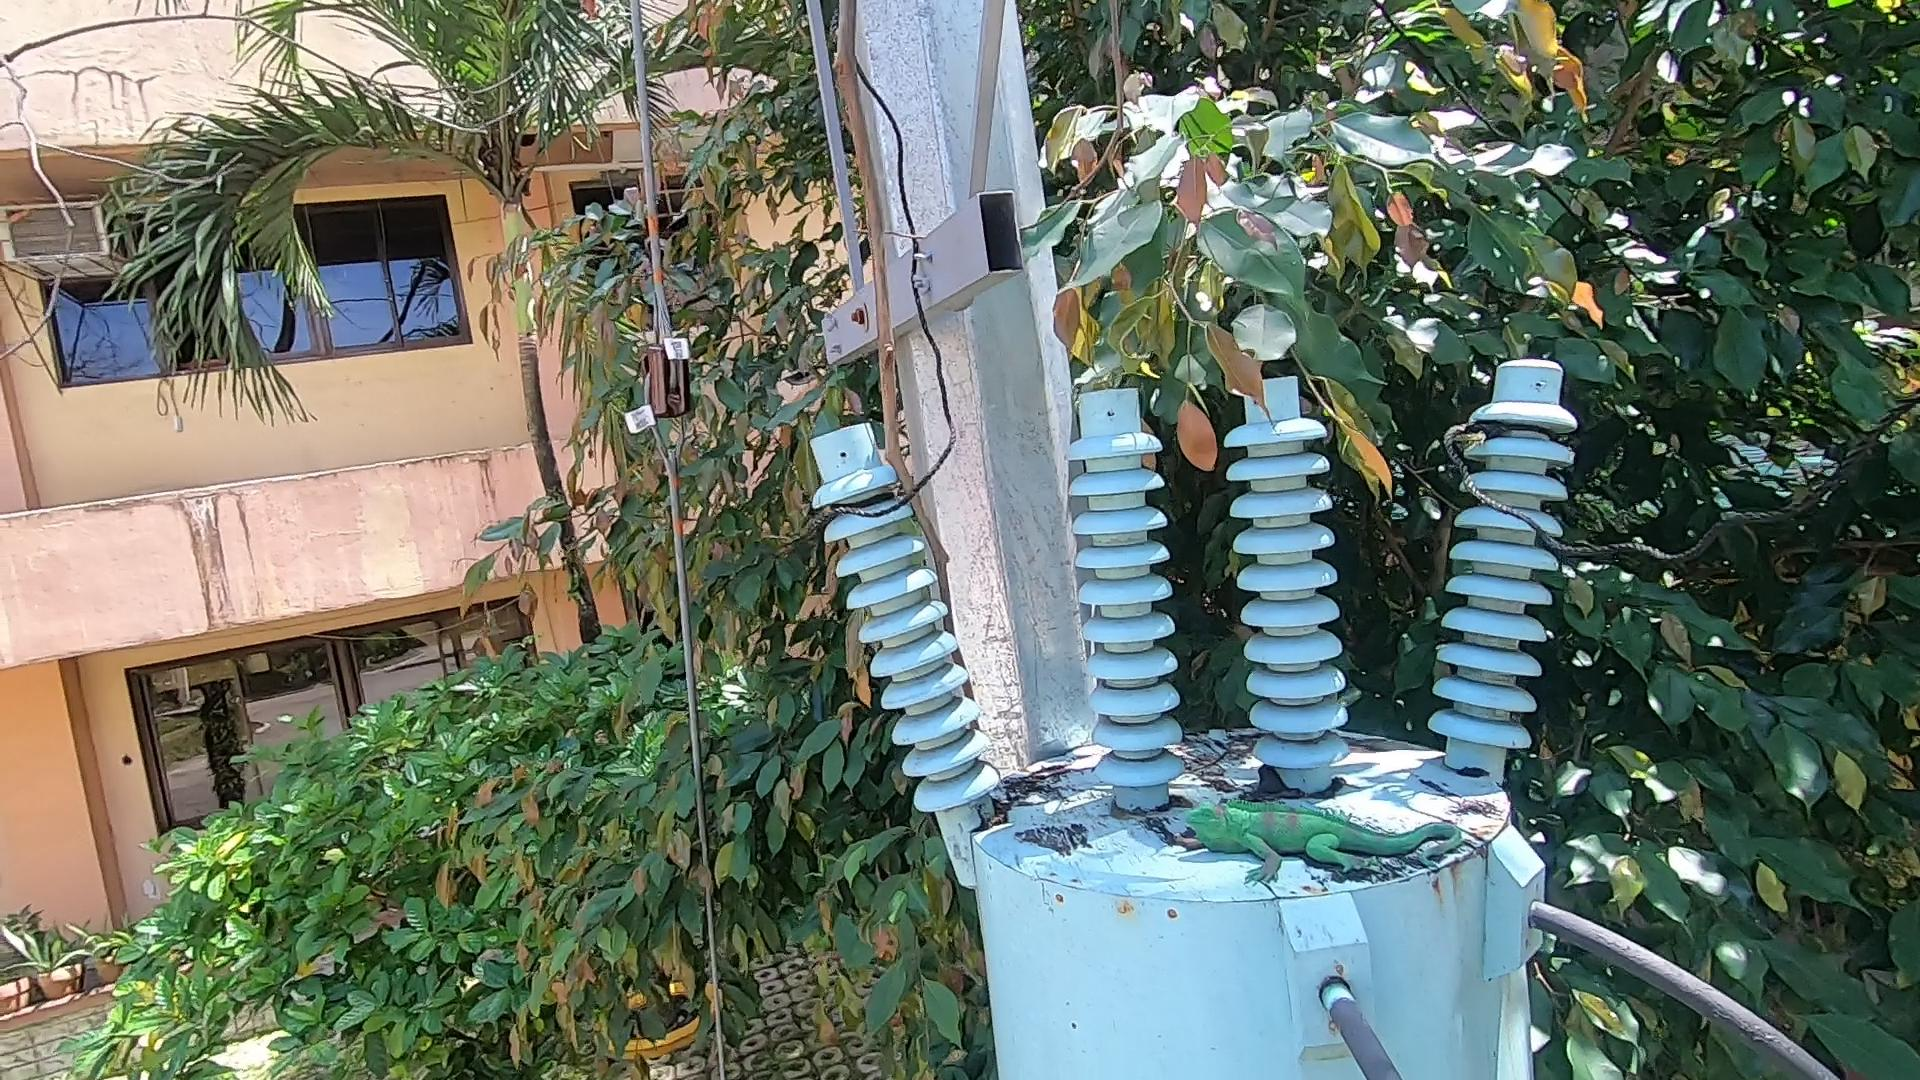branch with leaves: (1108, 298, 1437, 516)
leaf: (1220, 760, 1305, 816), (977, 798, 1026, 828)
tree branch: (790, 3, 1000, 735)
